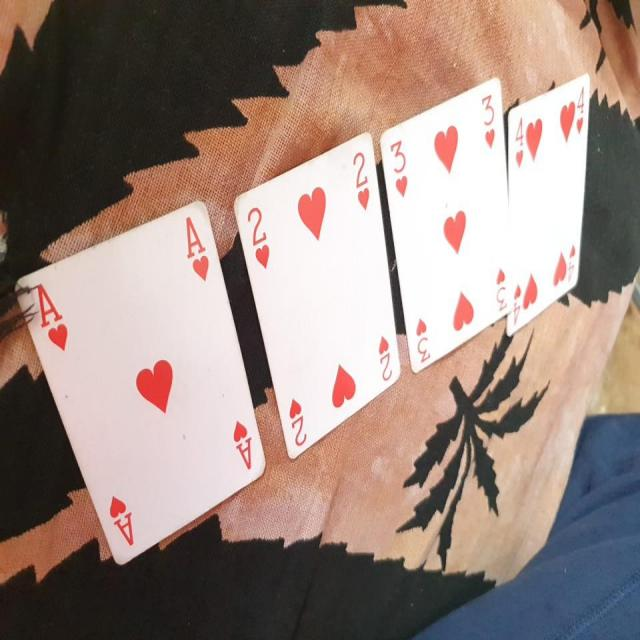2 Hearts: (232, 125, 407, 458)
3 Hearts: (375, 69, 520, 378)
4 Hearts: (502, 64, 592, 340)
A Hearts: (12, 186, 270, 573)
